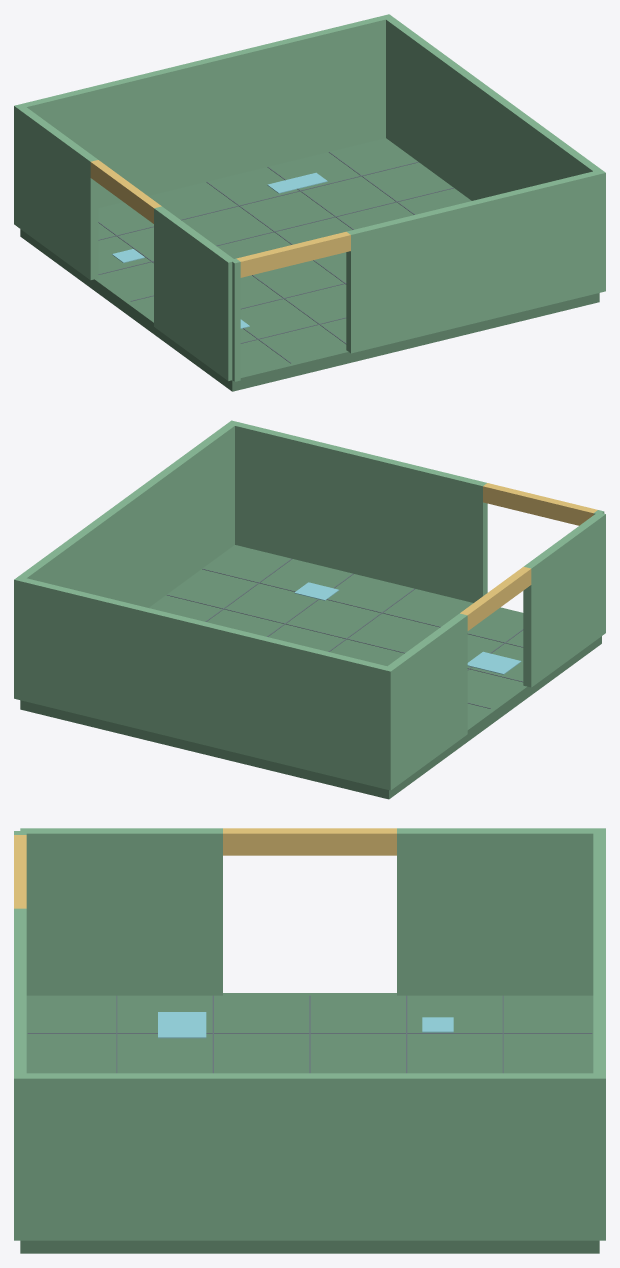
File: Loot2.fbx
The picture shows the model from 3 angles, top to bottom: view 1: azimuth 30°, elevation 25°; view 2: azimuth 150°, elevation 25°; view 3: azimuth 270°, elevation 25°; orthographic projection. The views are drawn at different scales.
Visible parts, largest first — view 1: Loot2__Floor, Loot2__north_Wall, Loot2__south_Wall_1, Loot2__east_Wall, Loot2__west_Wall_End, Loot2__west_Wall_1, Loot2__south_Lintel_1, Loot2__west_Lintel_1, Loot2__south_Wall_End, Loot2__Pad_LootSpawn_04_Wide; view 2: Loot2__north_Wall, Loot2__south_Wall_1, Loot2__Floor, Loot2__east_Wall, Loot2__west_Wall_1, Loot2__west_Wall_End, Loot2__south_Lintel_1, Loot2__west_Lintel_1, Loot2__Pad_LootSpawn_02_Big; view 3: Loot2__east_Wall, Loot2__Floor, Loot2__west_Wall_1, Loot2__west_Wall_End, Loot2__west_Lintel_1, Loot2__north_Wall, Loot2__south_Wall_1, Loot2__Pad_LootSpawn_02_Big, Loot2__south_Lintel_1.
Boxes of the visible parts, bbox=[...] form: Loot2__Floor: bbox=[20, 138, 599, 391]; Loot2__north_Wall: bbox=[14, 14, 390, 227]; Loot2__south_Wall_1: bbox=[346, 171, 597, 353]; Loot2__east_Wall: bbox=[382, 14, 605, 293]; Loot2__west_Wall_End: bbox=[16, 105, 98, 280]; Loot2__west_Wall_1: bbox=[154, 206, 233, 380]; Loot2__south_Lintel_1: bbox=[236, 231, 350, 277]; Loot2__west_Lintel_1: bbox=[90, 160, 161, 223]; Loot2__south_Wall_End: bbox=[230, 258, 240, 381]; Loot2__Pad_LootSpawn_04_Wide: bbox=[267, 172, 327, 193]; Loot2__north_Wall: bbox=[14, 576, 395, 790]; Loot2__south_Wall_1: bbox=[231, 422, 487, 602]; Loot2__Floor: bbox=[20, 545, 601, 799]; Loot2__east_Wall: bbox=[14, 420, 238, 700]; Loot2__west_Wall_1: bbox=[523, 512, 605, 687]; Loot2__west_Wall_End: bbox=[388, 613, 467, 788]; Loot2__south_Lintel_1: bbox=[483, 483, 597, 525]; Loot2__west_Lintel_1: bbox=[460, 566, 531, 630]; Loot2__Pad_LootSpawn_02_Big: bbox=[467, 651, 521, 674]; Loot2__east_Wall: bbox=[14, 1073, 605, 1240]; Loot2__Floor: bbox=[20, 993, 599, 1253]; Loot2__west_Wall_1: bbox=[20, 828, 222, 995]; Loot2__west_Wall_End: bbox=[397, 828, 599, 995]; Loot2__west_Lintel_1: bbox=[223, 828, 396, 855]; Loot2__north_Wall: bbox=[593, 828, 605, 1078]; Loot2__south_Wall_1: bbox=[14, 908, 26, 1075]; Loot2__Pad_LootSpawn_02_Big: bbox=[158, 1012, 206, 1038]; Loot2__south_Lintel_1: bbox=[14, 835, 26, 908].
Bounding box in the file's own units: 1226 × 406 × 1226.
